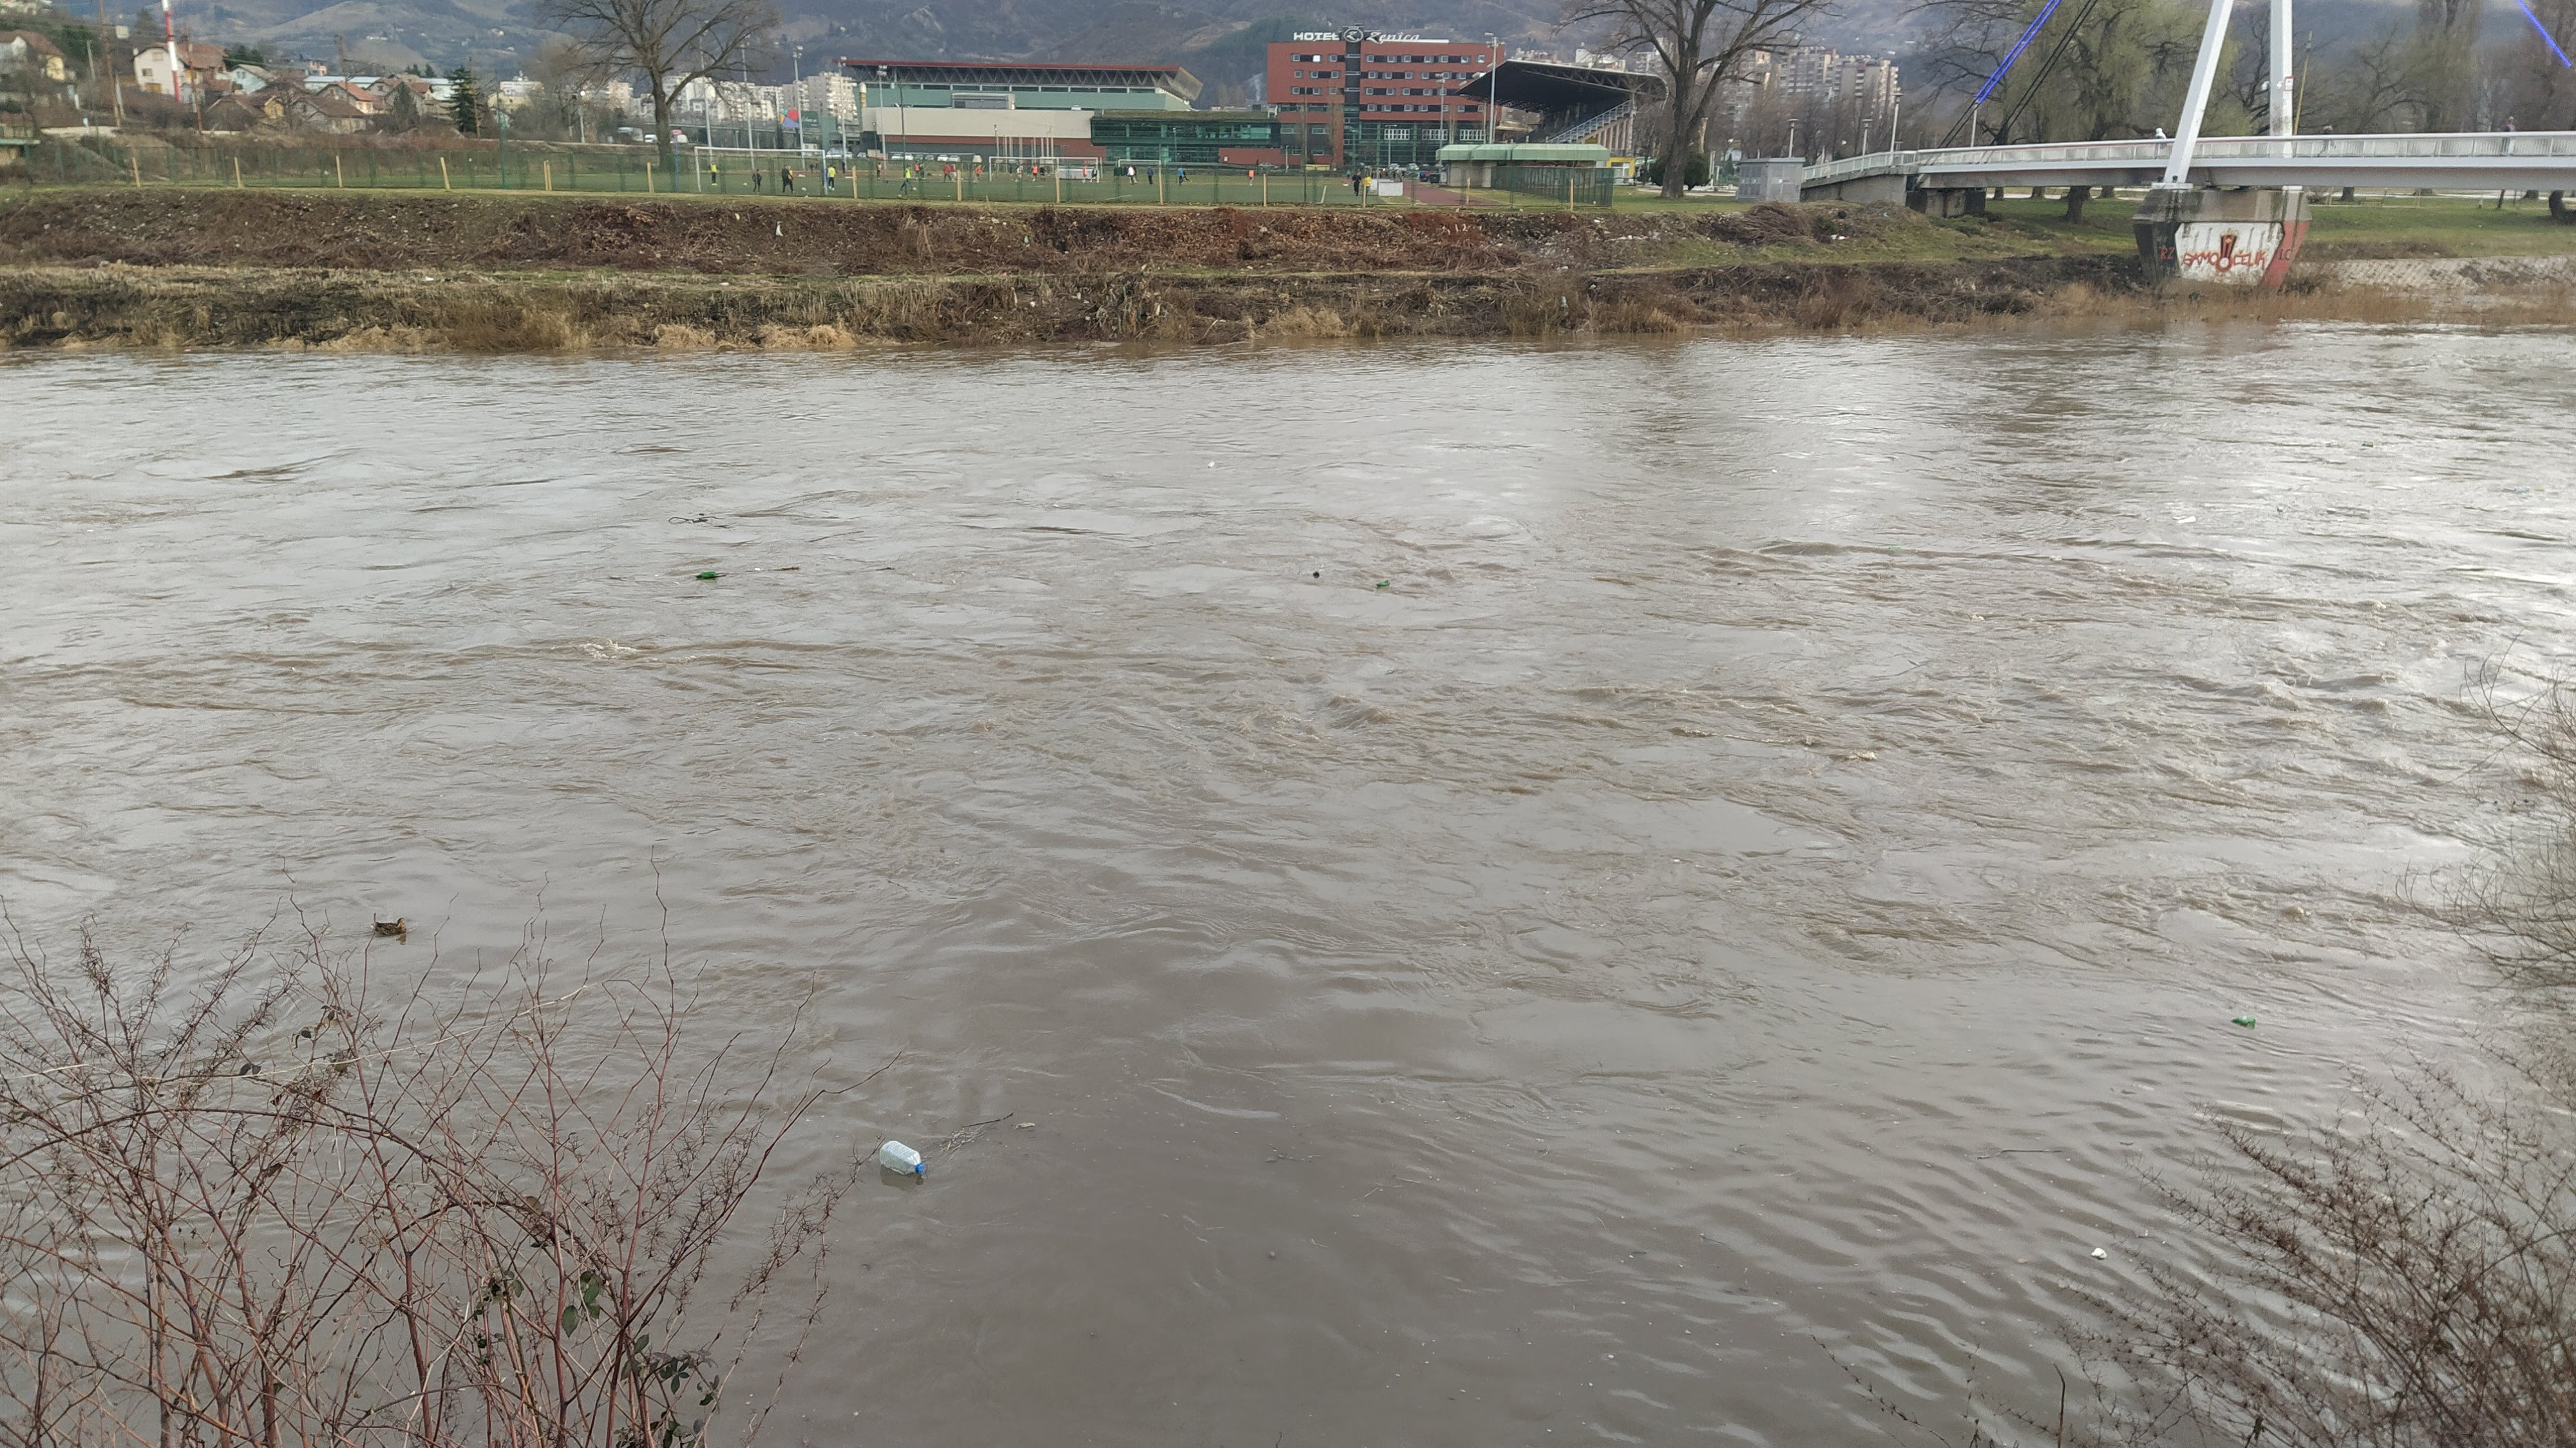Plastic Bottle: (879, 1140, 925, 1175), (2233, 1016, 2256, 1025), (695, 572, 715, 579), (2176, 515, 2196, 522), (1376, 581, 1389, 586), (1207, 462, 1214, 467), (2362, 443, 2373, 446), (1313, 572, 1318, 577)
